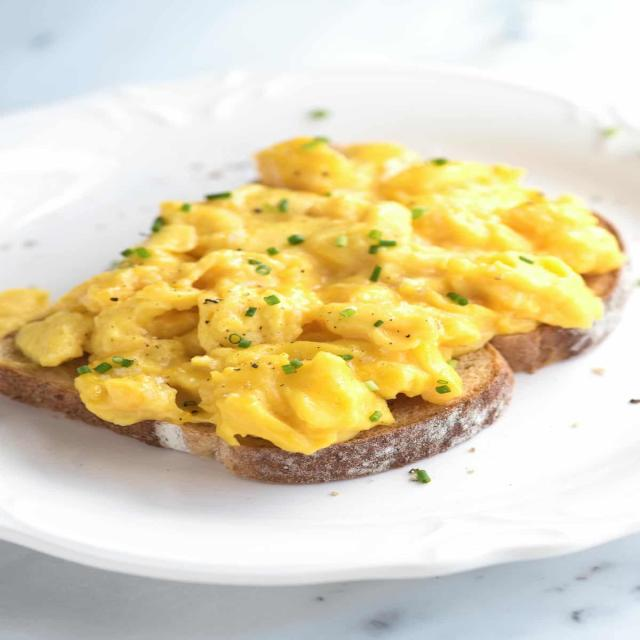eggs: (91, 136, 600, 433)
